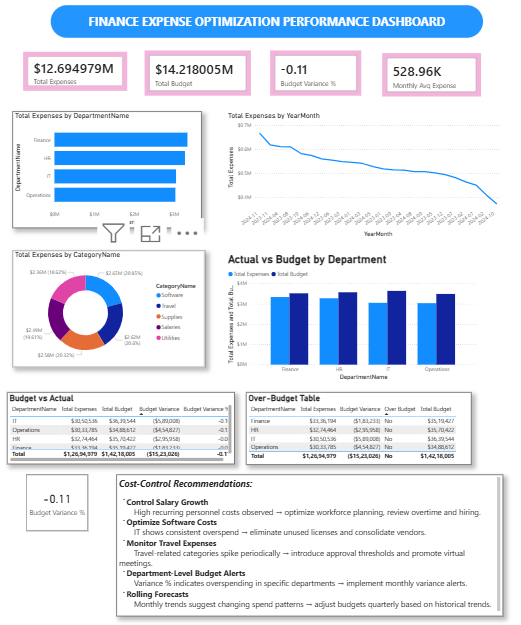

Layout of this report page (visuals, bound fields, positions):
{"tool":"powerbi","page":{"name":"DashBoard","canvas":[1250,1500],"ordinal":4},"visuals":[{"type":"cardVisual","title":"Total Expense","fields":{"Data":["Measures (2).Total Expenses"]},"box":[50,123.3,261.7,105],"z":0},{"type":"cardVisual","fields":{"Data":["Measures (2).Total Budget","Measures (2).Total Budget"]},"box":[343.3,118.3,266.7,120],"z":1000},{"type":"cardVisual","fields":{"Data":["Measures (2).Budget Variance %"]},"box":[641.7,118.3,230,120],"z":2000},{"type":"cardVisual","fields":{"Data":["Measures (2).Monthly Avg Expense"]},"box":[910,126.7,248.3,116.7],"z":3000},{"type":"clusteredBarChart","fields":{"Y":["Measures (2).Total Expenses"],"Category":["Departments.DepartmentName"]},"box":[31.7,270,451.7,278.3],"z":4000},{"type":"donutChart","fields":{"Y":["Measures (2).Total Expenses"],"Category":["ExpenseCategories.CategoryName"]},"box":[31.7,603.3,460,278.3],"z":5000},{"type":"lineChart","fields":{"Category":["DateTable.YearMonth"],"Y":["Measures (2).Total Expenses"]},"box":[543.3,270,661.7,306.7],"z":6000},{"type":"clusteredColumnChart","title":"Actual vs Budget by Department","fields":{"Category":["Departments.DepartmentName"],"Y":["Measures (2).Total Expenses","Measures (2).Total Budget"]},"box":[543.3,608.3,603.3,310],"z":7000},{"type":"tableEx","title":"Budget vs Actual","fields":{"Values":["Departments.DepartmentName","Measures (2).Total Expenses","Measures (2).Total Budget","Measures (2).Budget Variance","Measures (2).Budget Variance %"]},"box":[18.3,943.3,543.3,171.7],"z":8000},{"type":"card","title":"Budget Variance %","fields":{"Values":["Measures (2).Budget Variance %"]},"box":[65,1140,148.3,135],"z":9000},{"type":"tableEx","title":"Over-Budget Table","fields":{"Values":["Departments.DepartmentName","Measures (2).Total Expenses","Measures (2).Budget Variance","Measures (2).Over Budget","Measures (2).Total Budget"]},"box":[590,943.3,538.3,173.3],"z":10000},{"type":"textbox","box":[281.7,1140,923.3,338.3],"z":11000},{"type":"shape","box":[123.3,15,1035,80],"z":12000}]}

Visuals, with their boxes in screenshot pixels (x1, y1, x2, y2), scaled from the page's 1250x1500 canvas onto the 521x625 screenshot:
"Total Expense" cardVisual: (x1=21, y1=51, x2=130, y2=95)
cardVisual - Measures (2).Total Budget x Measures (2).Total Budget: (x1=143, y1=49, x2=254, y2=99)
cardVisual - Measures (2).Budget Variance %: (x1=267, y1=49, x2=363, y2=99)
cardVisual - Measures (2).Monthly Avg Expense: (x1=379, y1=53, x2=483, y2=101)
clusteredBarChart - Measures (2).Total Expenses x Departments.DepartmentName: (x1=13, y1=112, x2=201, y2=228)
donutChart - Measures (2).Total Expenses x ExpenseCategories.CategoryName: (x1=13, y1=251, x2=205, y2=367)
lineChart - DateTable.YearMonth x Measures (2).Total Expenses: (x1=226, y1=112, x2=502, y2=240)
"Actual vs Budget by Department" clusteredColumnChart: (x1=226, y1=253, x2=478, y2=383)
"Budget vs Actual" tableEx: (x1=8, y1=393, x2=234, y2=465)
"Budget Variance %" card: (x1=27, y1=475, x2=89, y2=531)
"Over-Budget Table" tableEx: (x1=246, y1=393, x2=470, y2=465)
textbox: (x1=117, y1=475, x2=502, y2=616)
shape: (x1=51, y1=6, x2=483, y2=40)
